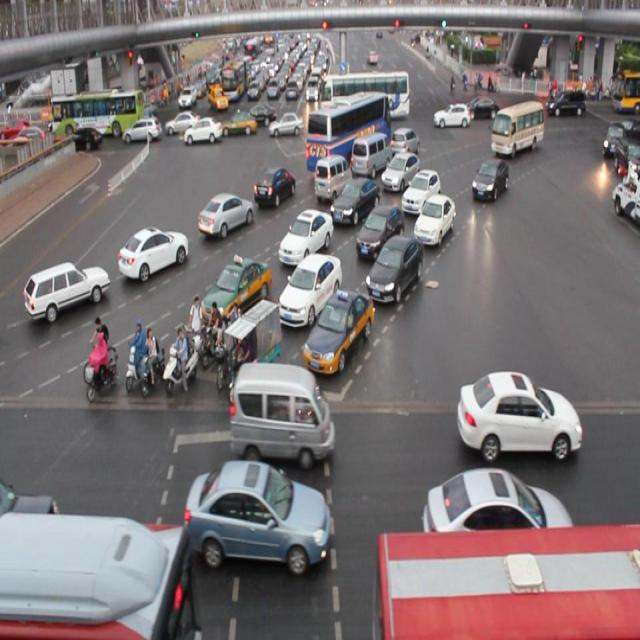car: (186, 458, 331, 574), (424, 467, 574, 555), (456, 366, 582, 462), (299, 294, 372, 378), (199, 254, 272, 336), (24, 260, 109, 322), (277, 251, 342, 329), (363, 231, 424, 306), (117, 225, 187, 283), (277, 210, 333, 266), (197, 194, 253, 242), (353, 208, 403, 260), (329, 177, 379, 225), (413, 194, 456, 246), (254, 168, 298, 209), (381, 148, 420, 190), (401, 169, 440, 210), (470, 158, 508, 200), (390, 126, 418, 162)
truck: (230, 360, 334, 466), (490, 99, 543, 159), (351, 134, 392, 178), (314, 156, 353, 202)
van: (372, 512, 640, 640), (1, 512, 197, 640), (305, 92, 391, 179)
